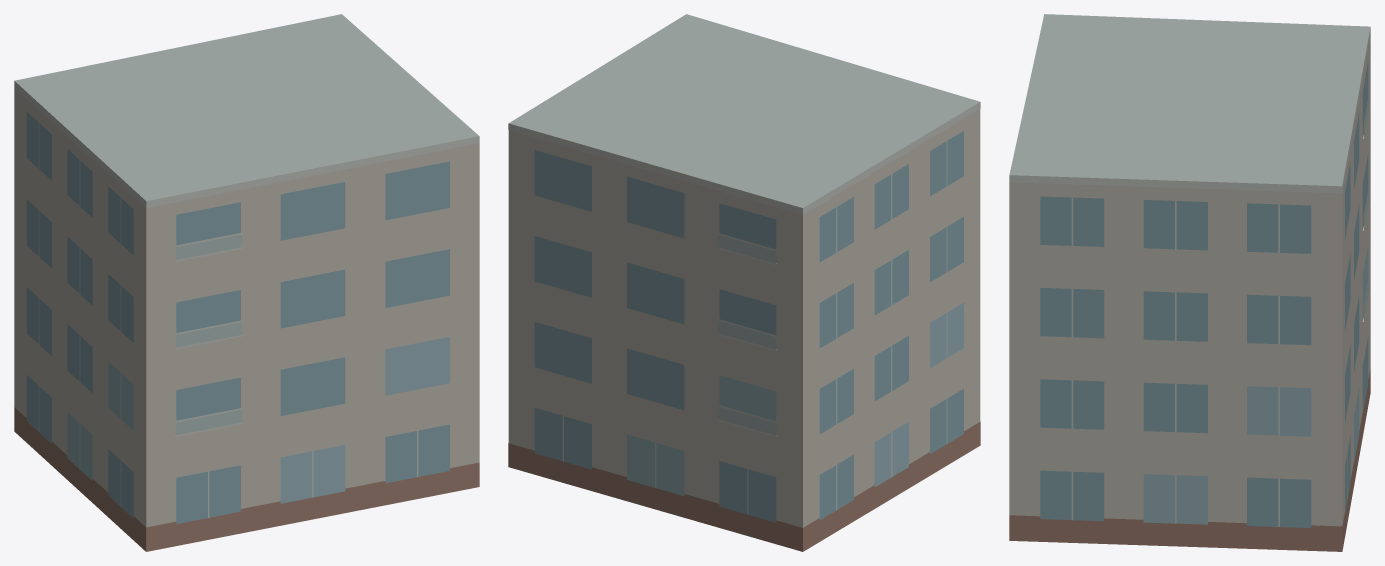
Rendered from survey-upis-32671897.glb.
The picture shows the model from 3 angles, left to right: view 1: azimuth 30°, elevation 25°; view 2: azimuth 150°, elevation 25°; view 3: azimuth 270°, elevation 25°; orthographic projection. The views are drawn at different scales.
Visible parts, largest first — view 1: survey-upis-32671897.tmp; view 2: survey-upis-32671897.tmp; view 3: survey-upis-32671897.tmp.
Part boxes in pixels (<box>): survey-upis-32671897.tmp: <box>14,14,479,551</box>; survey-upis-32671897.tmp: <box>508,14,980,551</box>; survey-upis-32671897.tmp: <box>1009,14,1370,551</box>.
Bounding box in the file's own units: 12.54 × 12.4 × 11.11.
